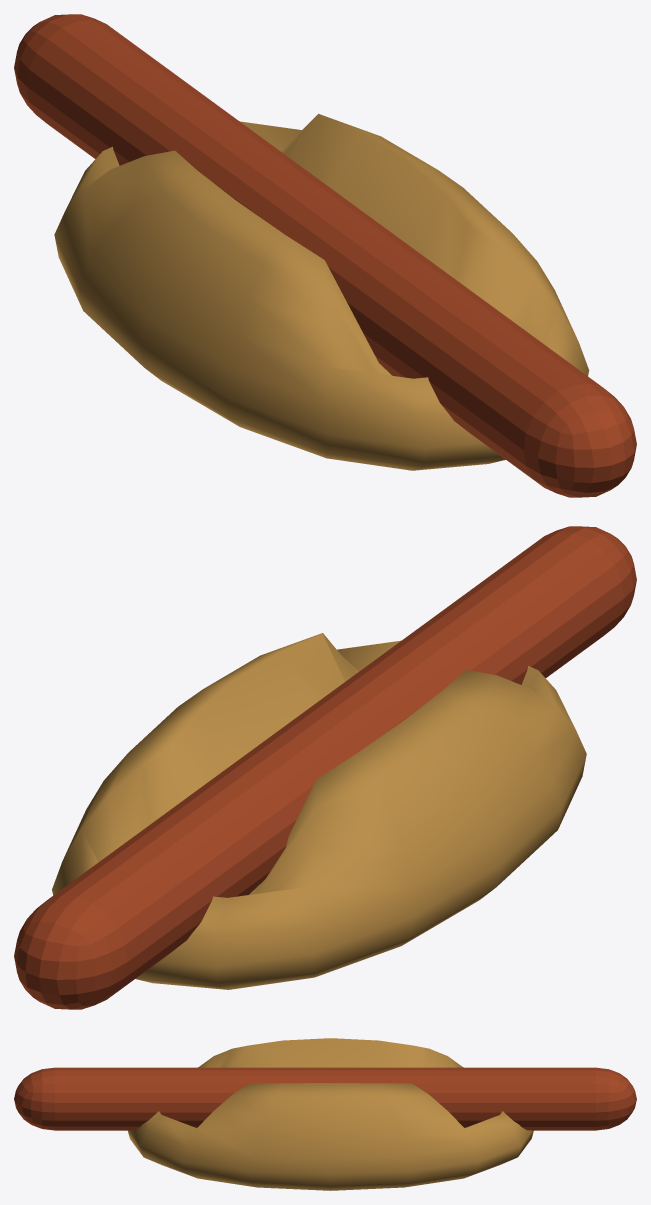
File: Hotdog.fbx
3 renders of one model, top to bottom at view 1: azimuth 30°, elevation 25°; view 2: azimuth 150°, elevation 25°; view 3: azimuth 270°, elevation 25°, orthographic. The views are drawn at different scales.
Parts seen in each view (by area): view 1: Hotdog, Hogdog-s; view 2: Hotdog, Hogdog-s; view 3: Hotdog, Hogdog-s.
Part boxes in pixels (x1,y1,x2,y2): Hotdog: [54, 113, 589, 470]; Hogdog-s: [14, 14, 636, 497]; Hotdog: [52, 633, 586, 989]; Hogdog-s: [14, 526, 636, 1009]; Hotdog: [128, 1038, 533, 1190]; Hogdog-s: [14, 1067, 636, 1130].
Size of the model in its own units: 145 by 70.53 by 398.
